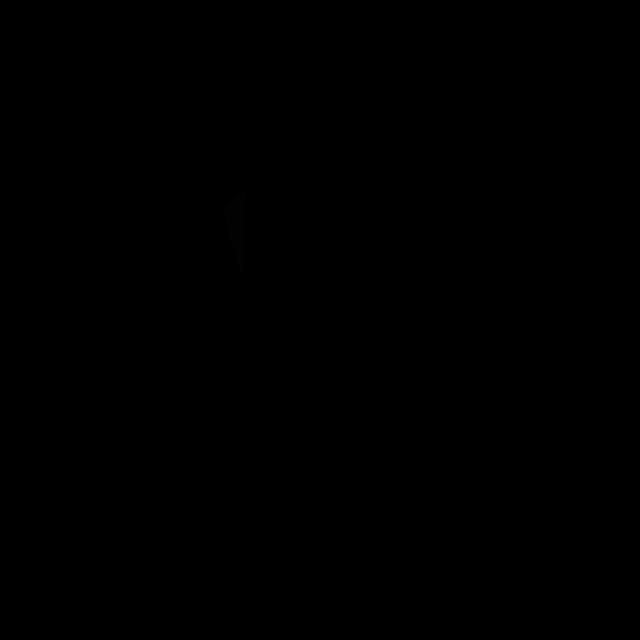cardboard: (223, 189, 246, 274)
